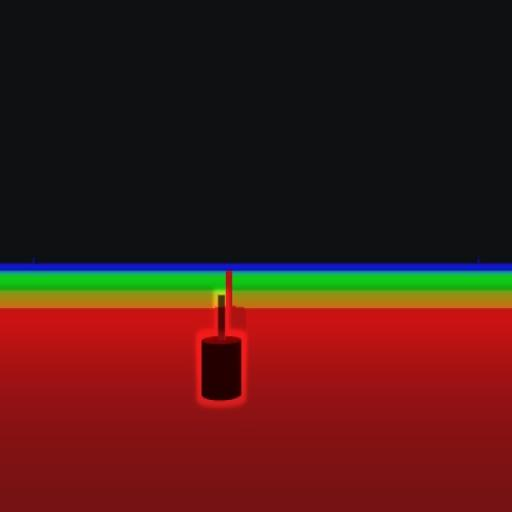floating_obstacle: (200, 295, 242, 401)
